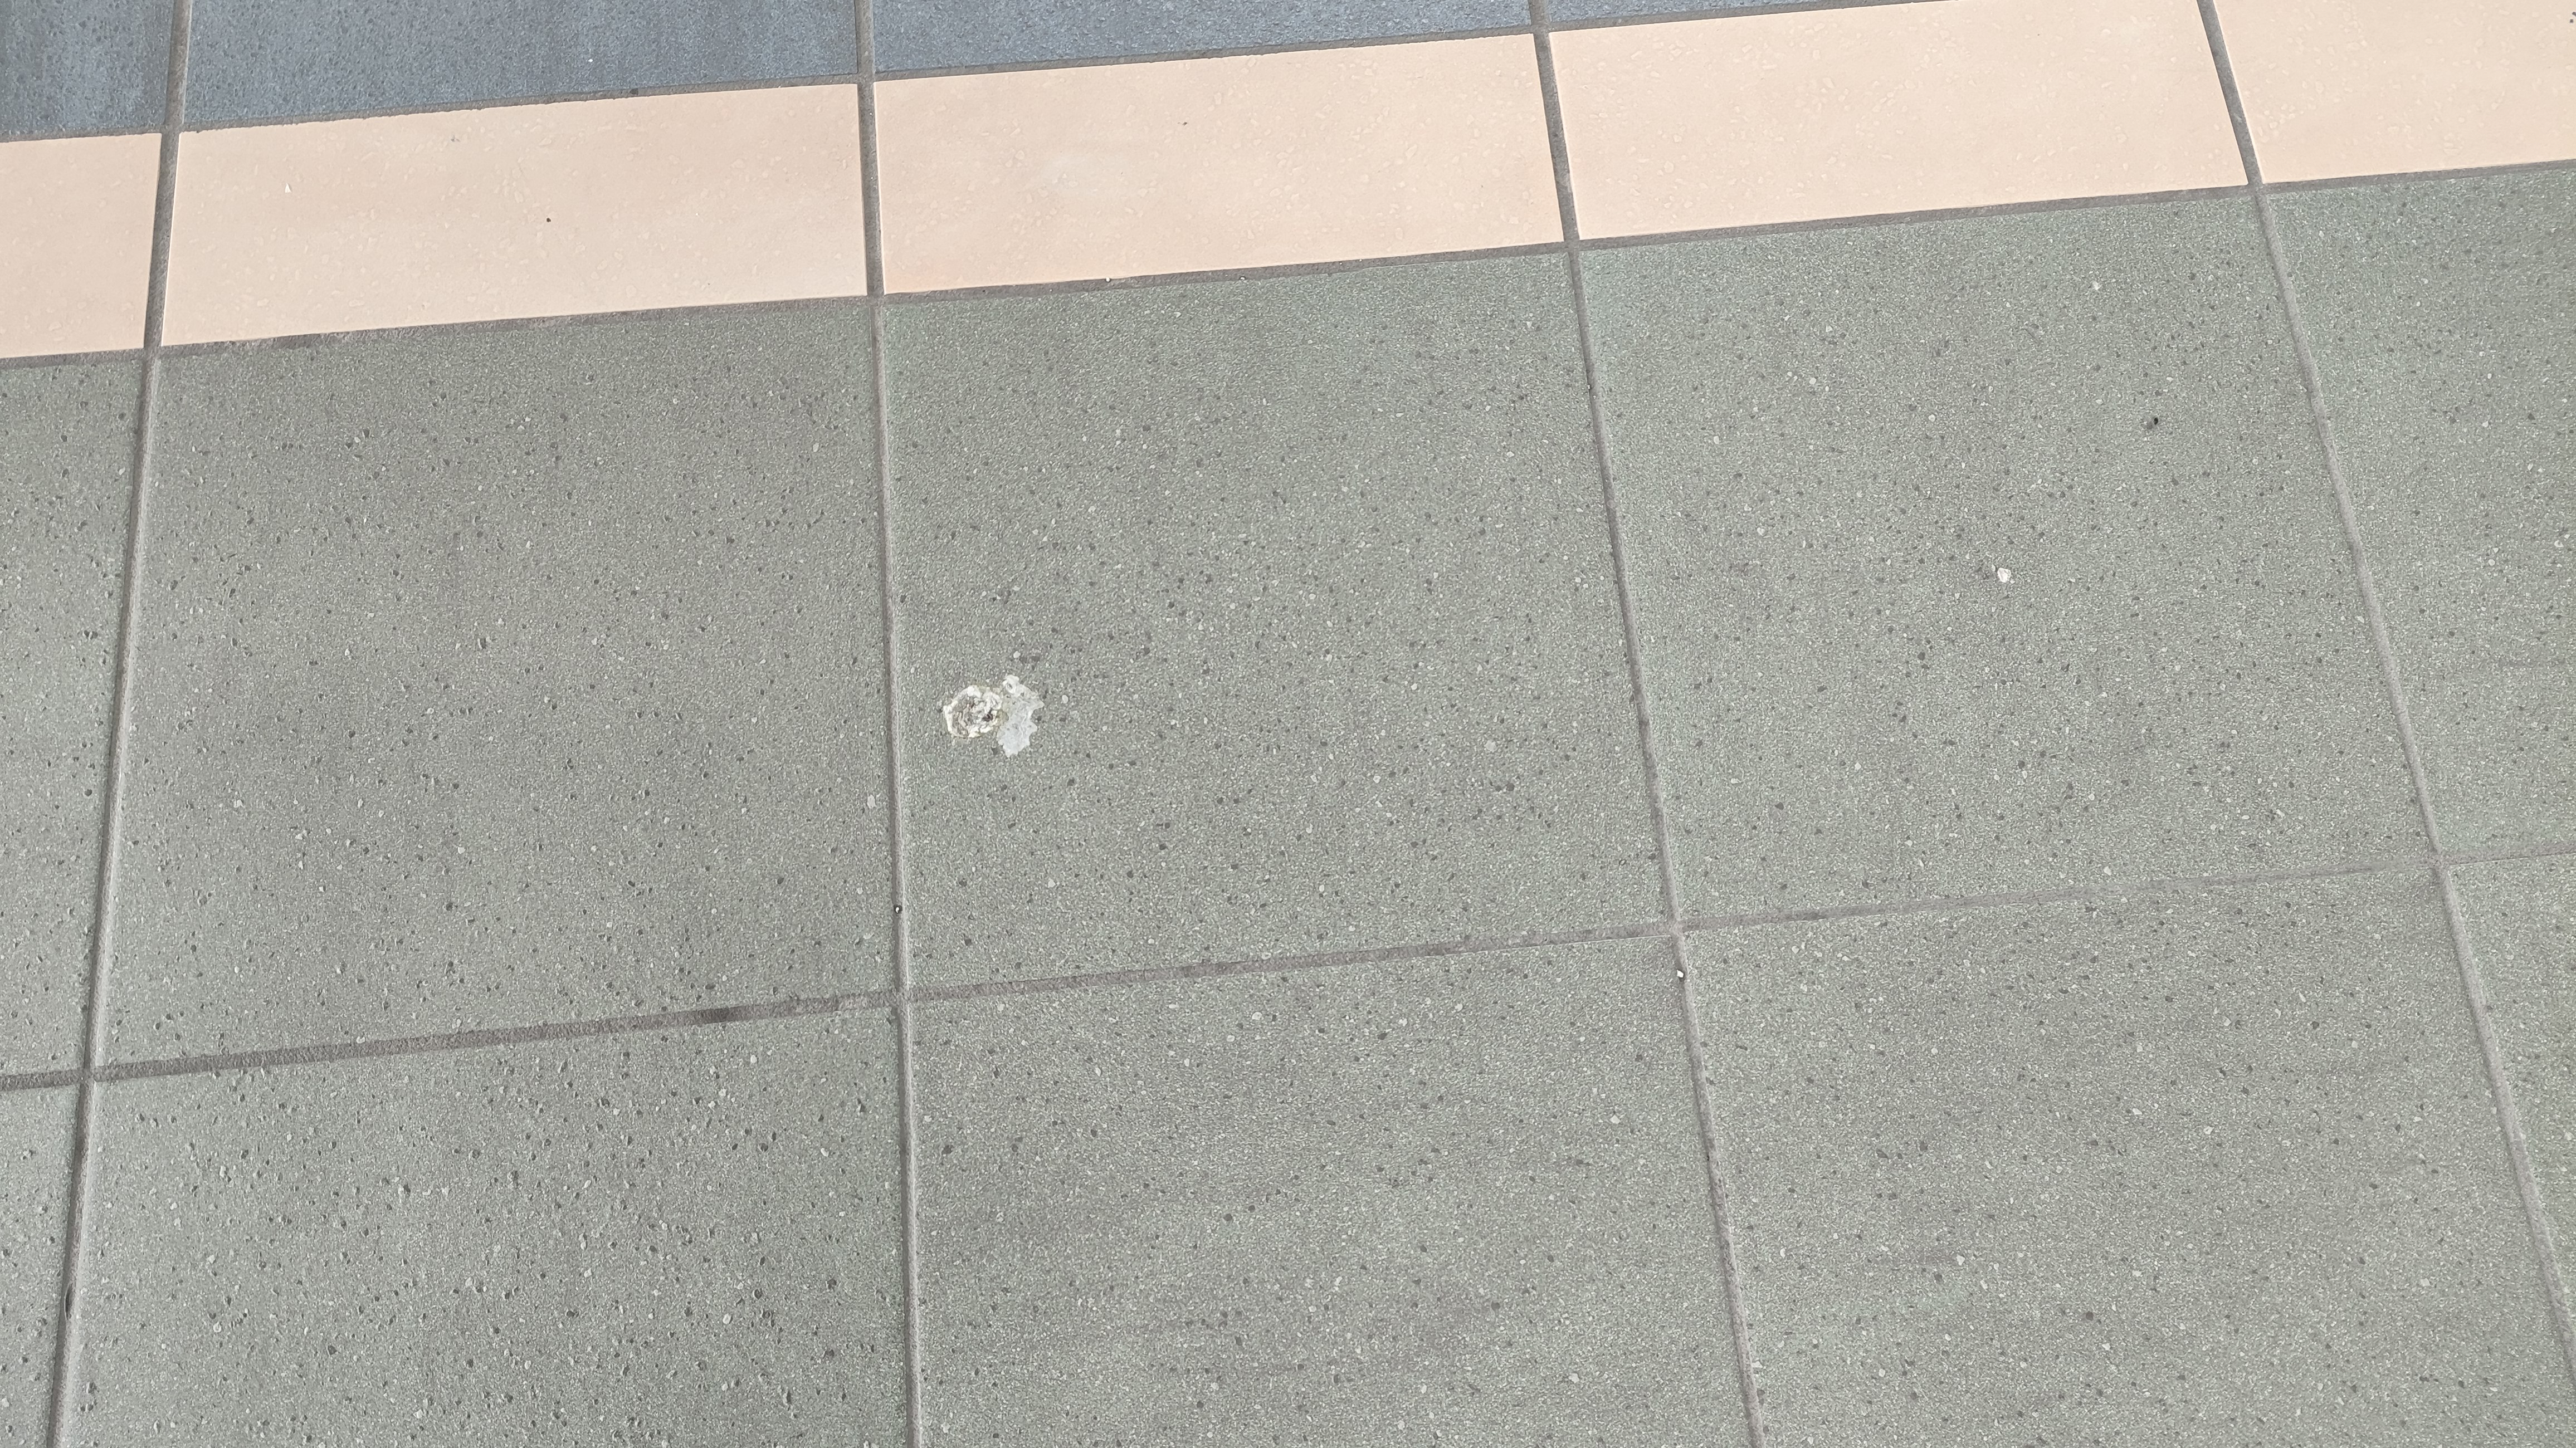Stain: (927, 651, 1065, 764)
